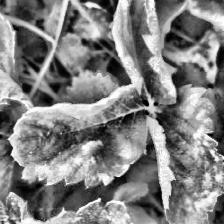Powdery Mildew Leaf: (7, 84, 148, 189), (145, 83, 224, 224), (109, 0, 178, 106), (24, 198, 166, 224)
